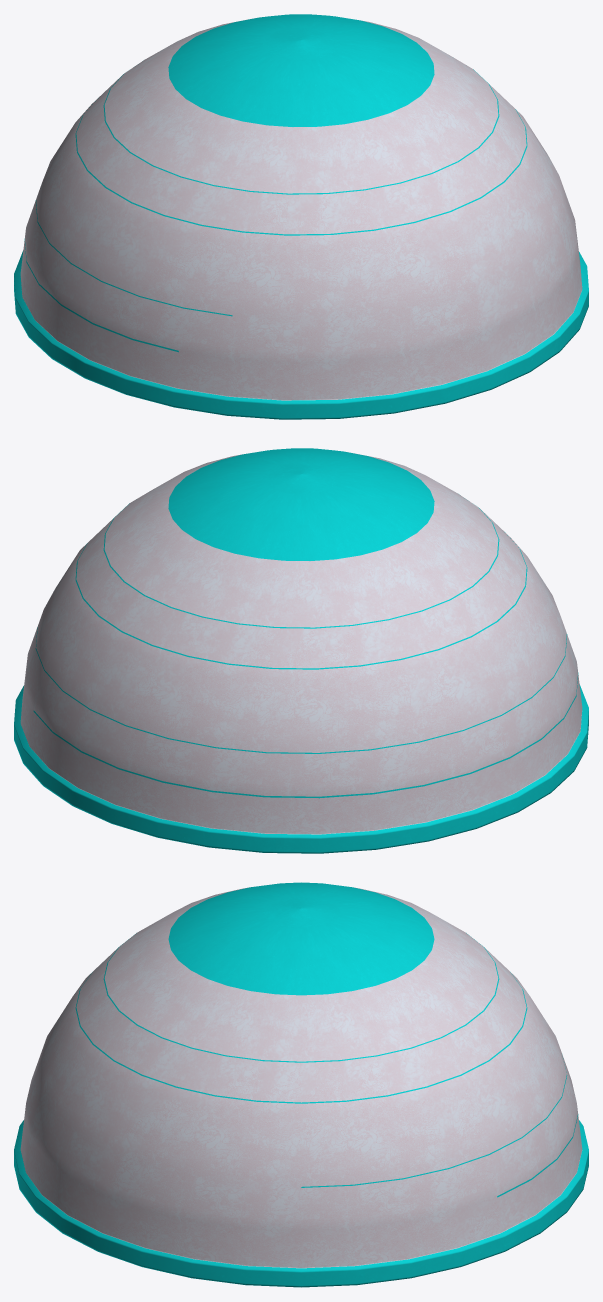
The model's file is Building01_Dome1.gltf.
3 views of the same model, one above another, from view 1: azimuth 30°, elevation 25°; view 2: azimuth 150°, elevation 25°; view 3: azimuth 270°, elevation 25° (orthographic).
Visible parts, largest first — view 1: Building01_Dome1(Clone); view 2: Building01_Dome1(Clone); view 3: Building01_Dome1(Clone).
Boxes of the visible parts, x1=… form: Building01_Dome1(Clone): x1=14, y1=14, x2=588, y2=419; Building01_Dome1(Clone): x1=14, y1=448, x2=588, y2=853; Building01_Dome1(Clone): x1=14, y1=882, x2=588, y2=1287.
Size of the model in its own units: 13.89 by 6.87 by 13.89.
2 materials, 2 textured.
